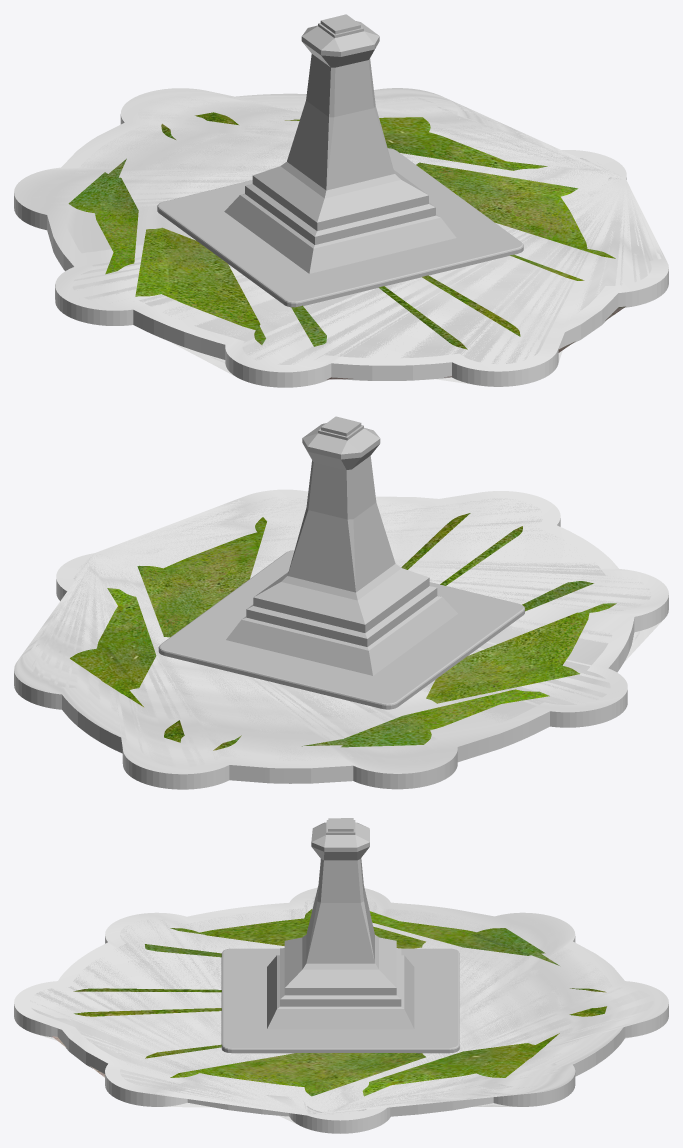
The model's file is pedestal_frente.fbx.
3 views of the same model, one above another, from view 1: azimuth 30°, elevation 25°; view 2: azimuth 150°, elevation 25°; view 3: azimuth 270°, elevation 25° (orthographic). The views are drawn at different scales.
Parts seen in each view (by area): view 1: borda, pedestal, grama; view 2: borda, pedestal, grama; view 3: borda, pedestal, grama.
Part boxes in pixels (left/top/right/bottom): borda: left=14, top=88, right=668, bottom=387; pedestal: left=157, top=14, right=523, bottom=307; grama: left=68, top=112, right=625, bottom=379; borda: left=14, top=489, right=668, bottom=789; pedestal: left=158, top=416, right=524, bottom=709; grama: left=70, top=513, right=616, bottom=750; borda: left=14, top=887, right=668, bottom=1133; pedestal: left=221, top=818, right=459, bottom=1053; grama: left=52, top=909, right=606, bottom=1096.
Bounding box in the file's own units: 3275 × 1253 × 3857.
